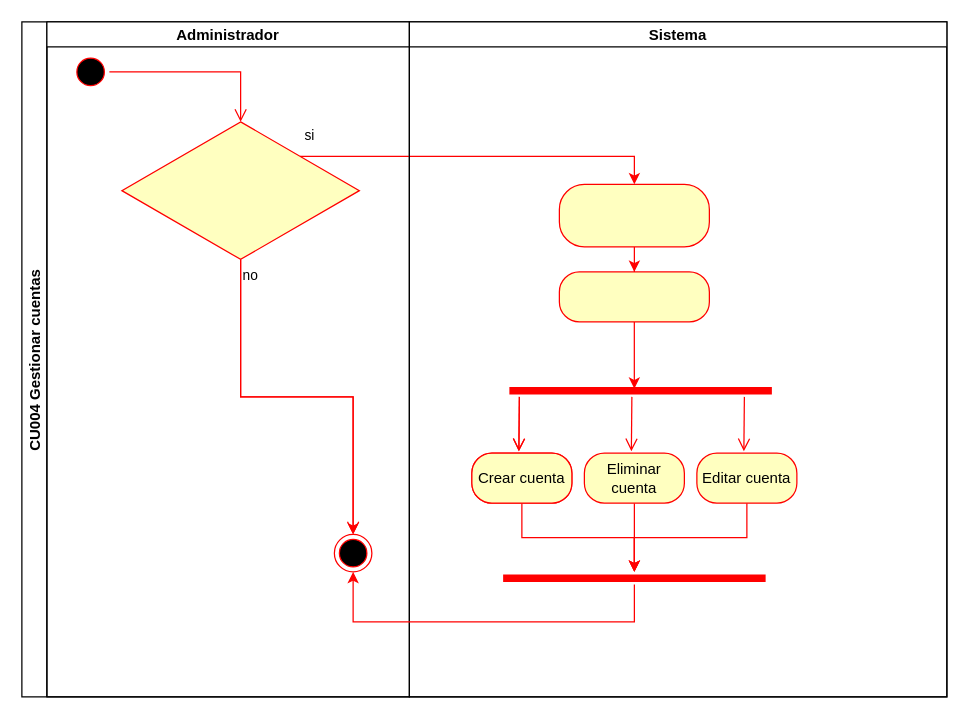
Some shapes in this 969 by 719 pixel diagram are drawn without their labels. Here are the shapes that lost their labels. From the top down, the centre of each, then its label:
[240,190]: Pulsa el apartado "Administrar cuentas"
[633,215]: Mostrar apartado
[633,296]: Mostrar lista de cuentas
